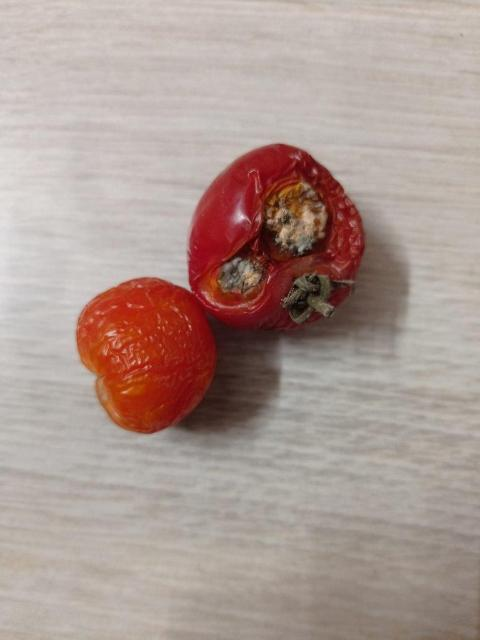defect: (185, 139, 367, 338)
